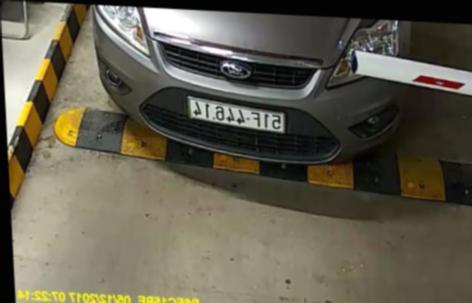License_Plate: (180, 97, 297, 140)
